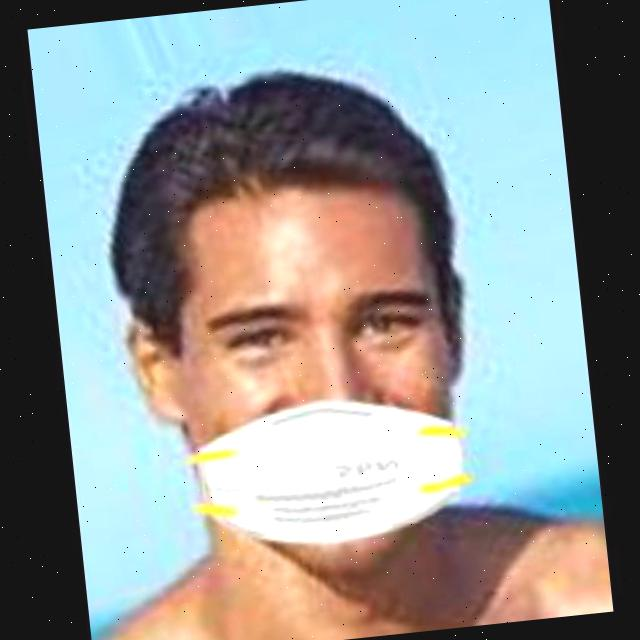suspicion: (129, 111, 520, 542)
